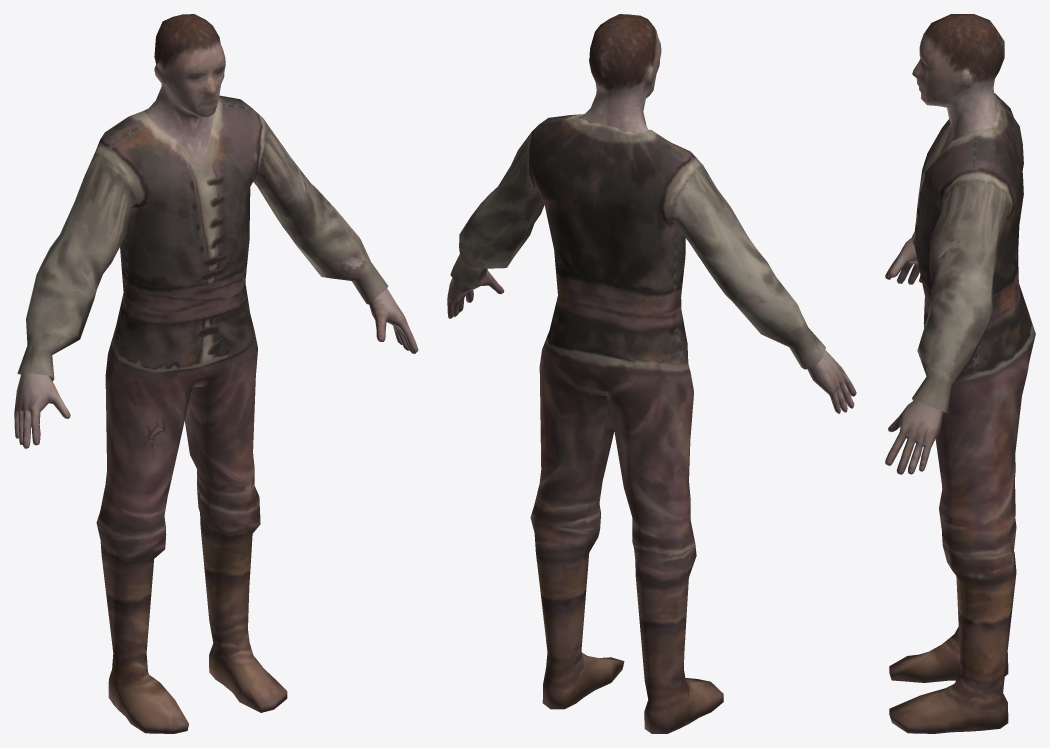
File: Char1_All.fbx
3 views of the same model, side by side, from view 1: azimuth 30°, elevation 25°; view 2: azimuth 150°, elevation 25°; view 3: azimuth 270°, elevation 25° (orthographic).
Parts seen in each view (by area): view 1: C1_Cloth_low, C1_Body_low; view 2: C1_Cloth_low, C1_Body_low; view 3: C1_Cloth_low, C1_Body_low.
Boxes of the visible parts, x1,y1,x2,y2 form: C1_Cloth_low: (17,95,388,733); C1_Body_low: (14,14,418,448); C1_Cloth_low: (450,114,825,733); C1_Body_low: (447,14,856,413); C1_Cloth_low: (889,93,1035,733); C1_Body_low: (885,14,1004,474).
Bounding box in the file's own units: 105 × 174 × 34.88.
3 materials, 3 textured.
